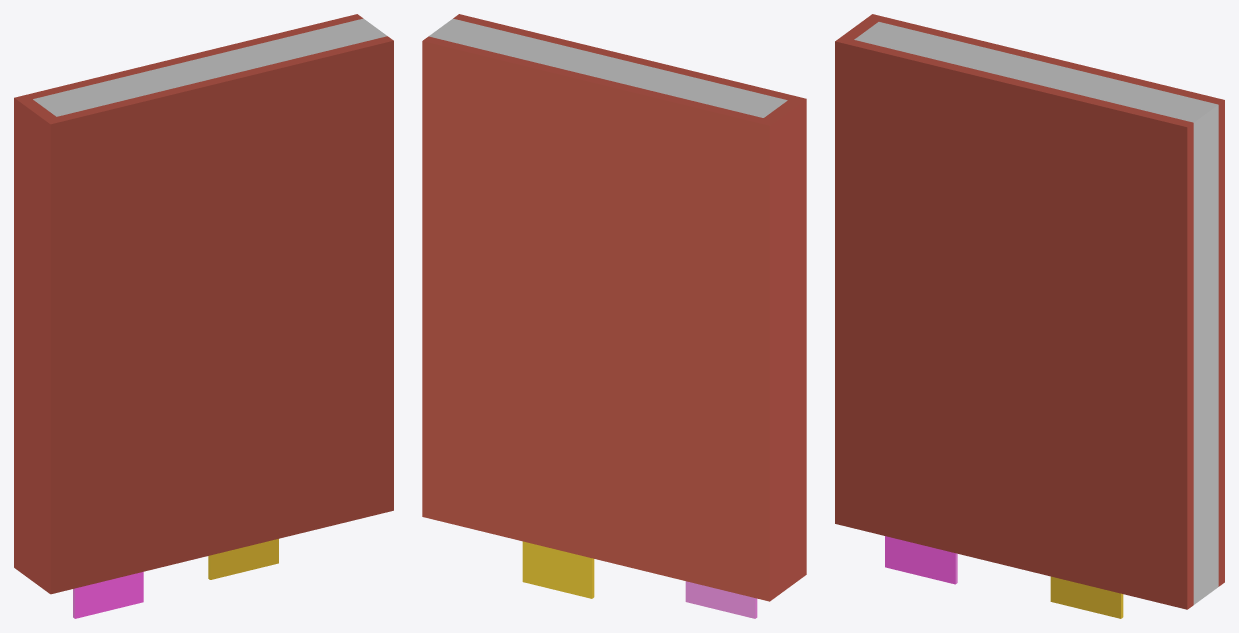
Rendered from Book2.glb.
3 renders of one model, left to right at view 1: azimuth 30°, elevation 25°; view 2: azimuth 150°, elevation 25°; view 3: azimuth 330°, elevation 25°, orthographic. The views are drawn at different scales.
Visible parts, largest first — view 1: SO_Book_02; view 2: SO_Book_02; view 3: SO_Book_02.
Part boxes in pixels (bbox=[...]): SO_Book_02: bbox=[14, 14, 393, 618]; SO_Book_02: bbox=[422, 14, 806, 618]; SO_Book_02: bbox=[835, 14, 1224, 618].
Size of the model in its own units: 0.5169 by 0.7472 by 0.095.
1 material, 1 textured.
